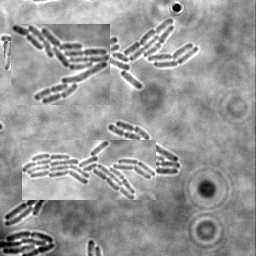Dividing: (4, 41, 15, 71)
Microcolony: (40, 18, 199, 89), (22, 140, 156, 200), (11, 24, 110, 105), (5, 184, 52, 226), (1, 230, 56, 255)
